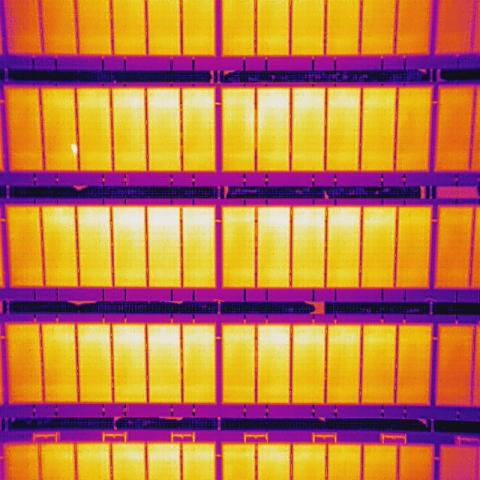fault: (70, 142, 78, 156)
